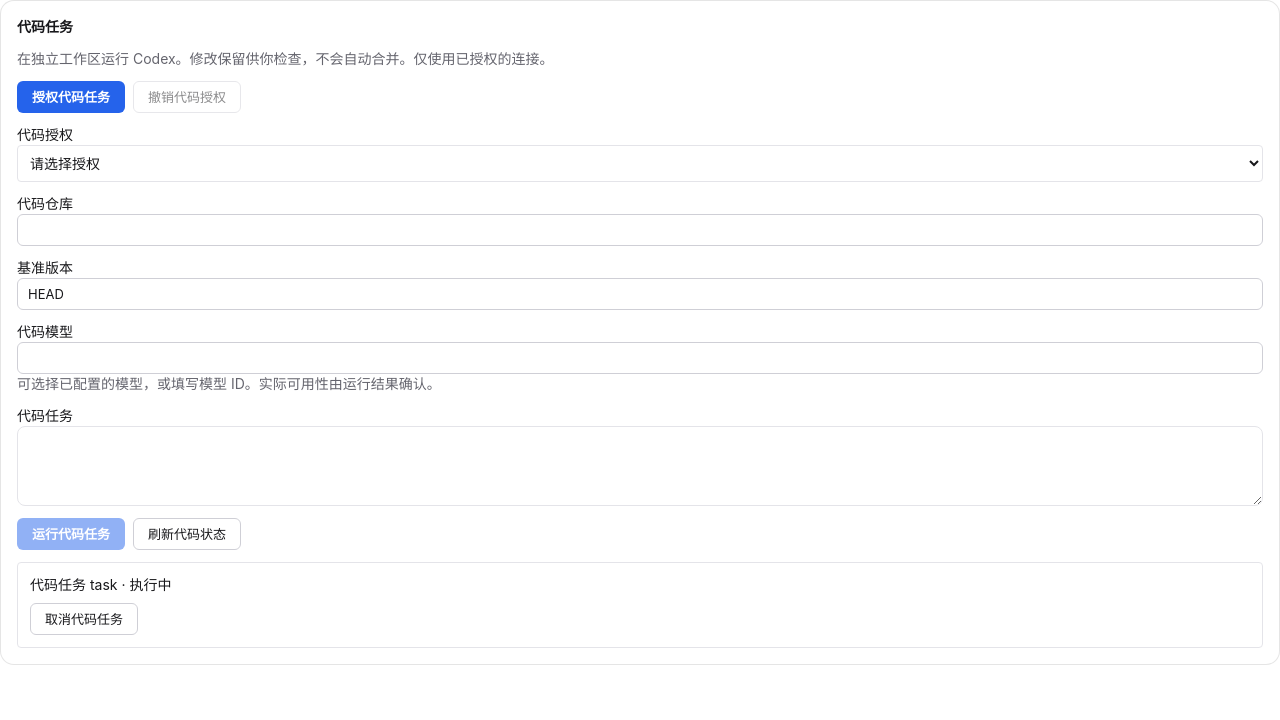
Scenario: preserves a cancel failure when the earlier model request finishes with success
The image size is (1280, 720).
Click the button "取消代码任务" at (84, 619), box [30,603,138,635]
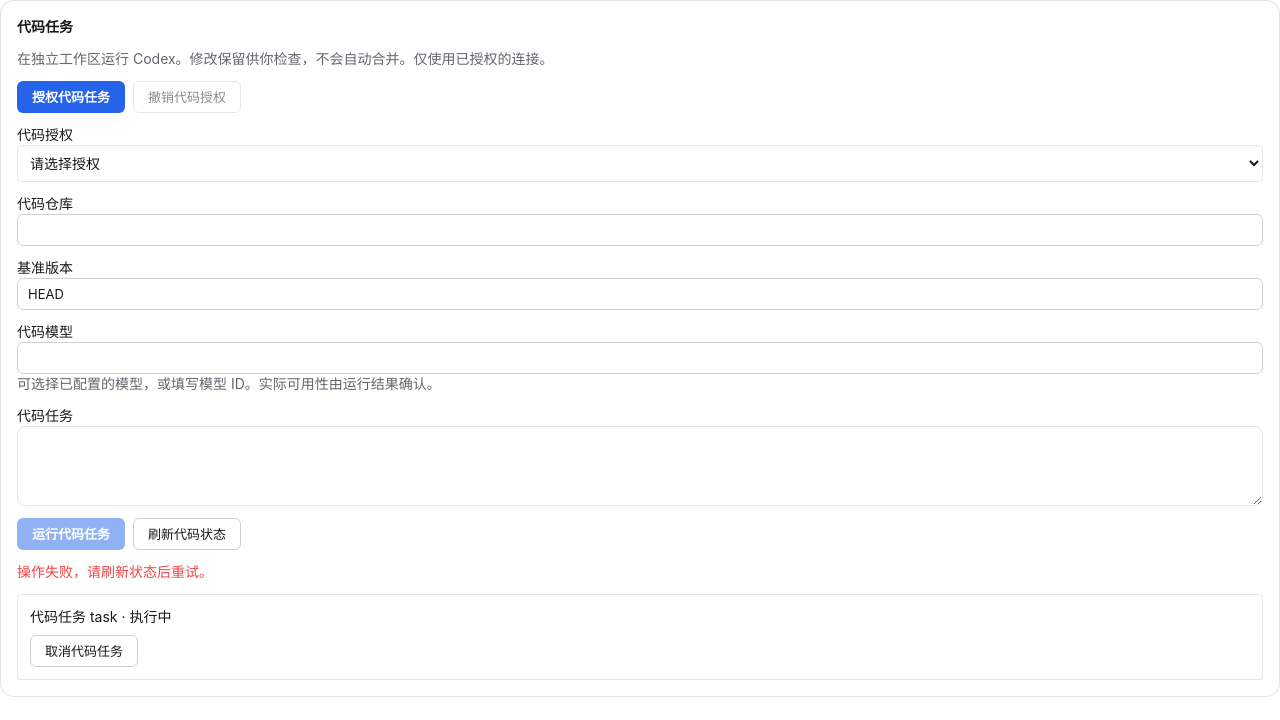
Result: the message reads "操作失败，请刷新状态后重试。" at [17,563,213,580]
